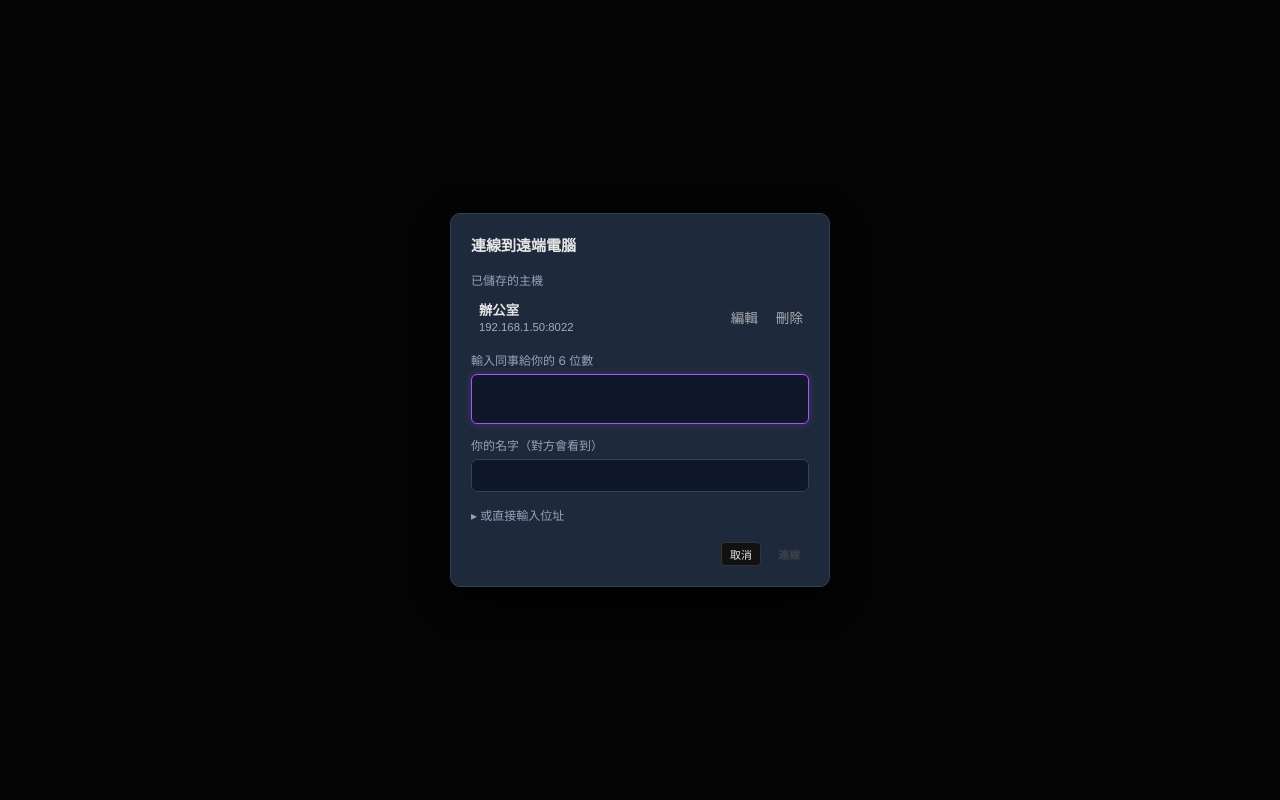
Test: ConnectDialog 地址簿 › 金鑰不在這台電腦上時，展開手動欄位並帶入位址讓使用者重貼
Click the text "辦公室" at (499, 310), box [479,300,519,319]
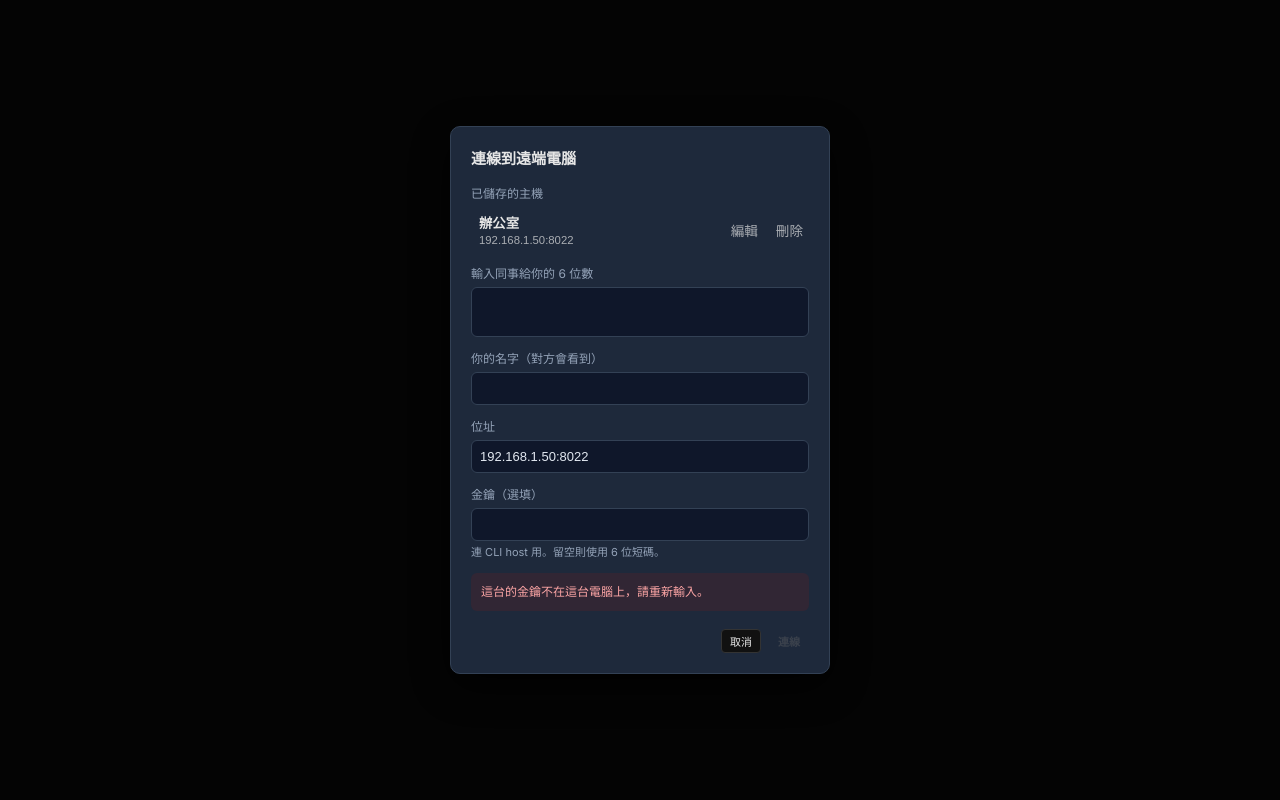
expect the field showing "192.168.1.50:8022" is shown: met, box [471,440,809,473]
expect the text "這台的金鑰不在這台電腦上，請重新輸入。" is shown: met, box [471,573,809,611]
